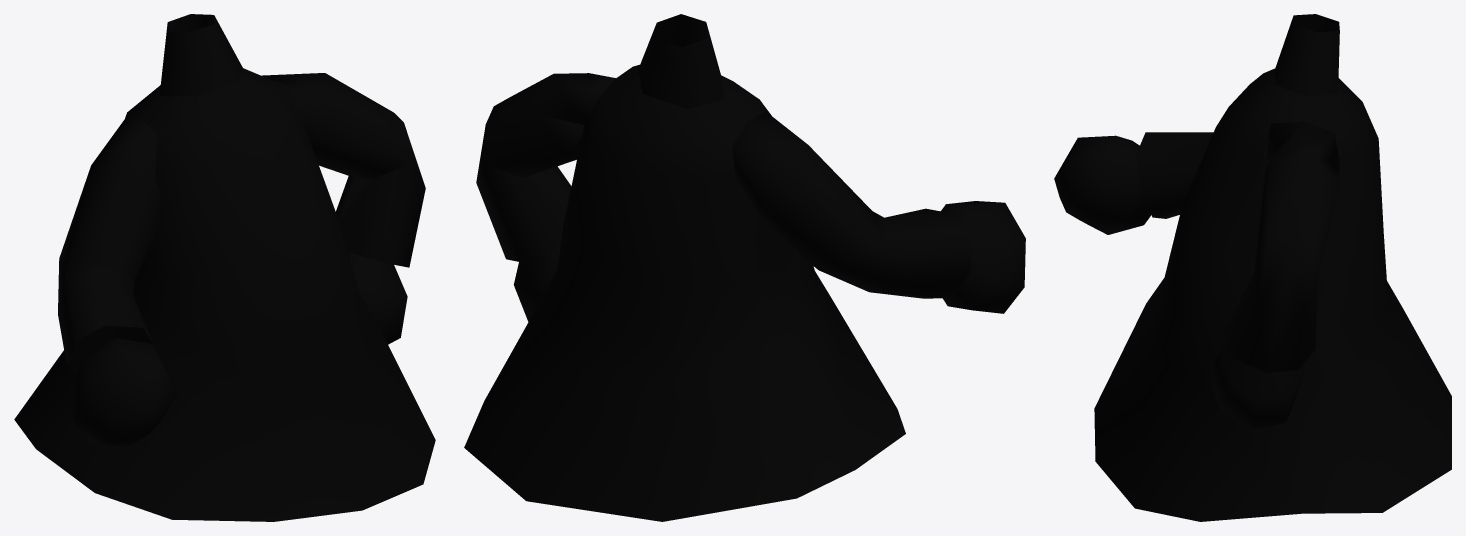
Rendered from tops_onpL.dae.
3 renders of one model, left to right at view 1: azimuth 30°, elevation 25°; view 2: azimuth 150°, elevation 25°; view 3: azimuth 270°, elevation 25°, orthographic. The views are drawn at different scales.
Parts seen in each view (by area): view 1: tops_onpL; view 2: tops_onpL; view 3: tops_onpL.
Boxes of the visible parts, x1,y1,x2,y2 form: tops_onpL: [14, 14, 435, 521]; tops_onpL: [464, 14, 1025, 521]; tops_onpL: [1054, 14, 1451, 521].
Size of the model in its own units: 21.92 by 21.03 by 17.92.
Materials: 1 (1 with a texture image).
